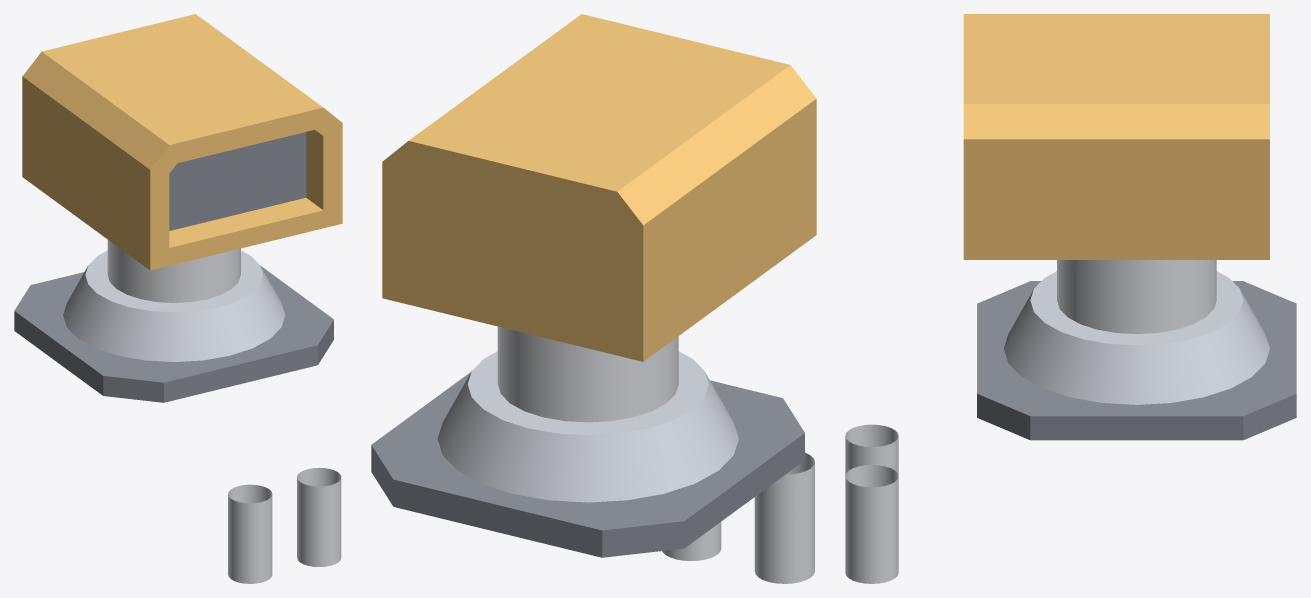
Rendered from SentryTurretBody.fbx.
3 views of the same model, side by side, from view 1: azimuth 30°, elevation 25°; view 2: azimuth 150°, elevation 25°; view 3: azimuth 270°, elevation 25° (orthographic). The views are drawn at different scales.
Parts seen in each view (by area): view 1: turret, turret_single, Group, Group.001; view 2: turret, turret_single, Group, Group.001; view 3: turret, turret_single, Group.001, Group.
Boxes of the visible parts, x1,y1,x2,y2 form: turret: (22,14,342,270); turret_single: (14,240,333,402); Group: (228,484,272,583); Group.001: (297,467,341,566); turret: (382,14,816,361); turret_single: (371,326,804,557); Group: (754,452,814,583); Group.001: (662,522,721,560); turret: (963,14,1269,259); turret_single: (977,260,1296,440); Group.001: (845,465,898,583); Group: (845,424,898,475).
Size of the model in its own units: 0.6 by 1.02 by 0.8474.
